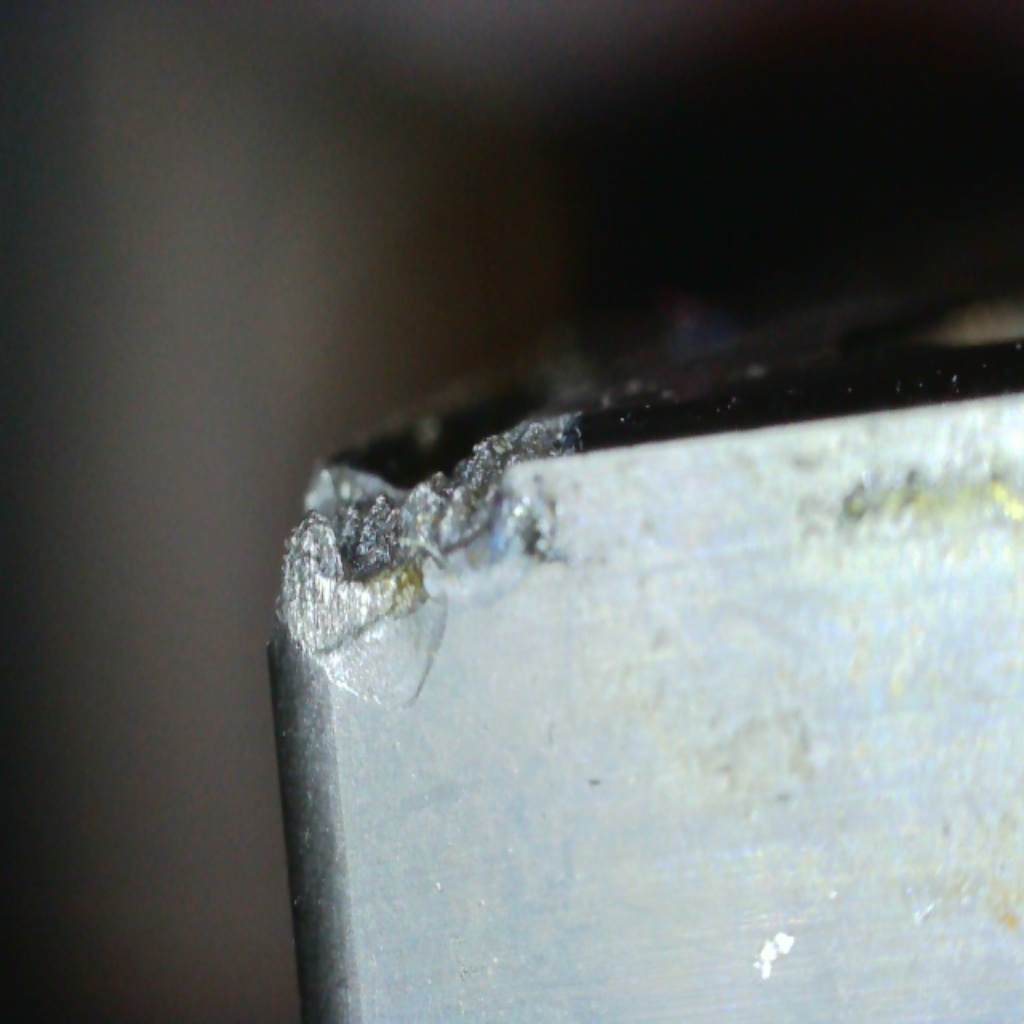flank_wear: (289, 489, 509, 653)
